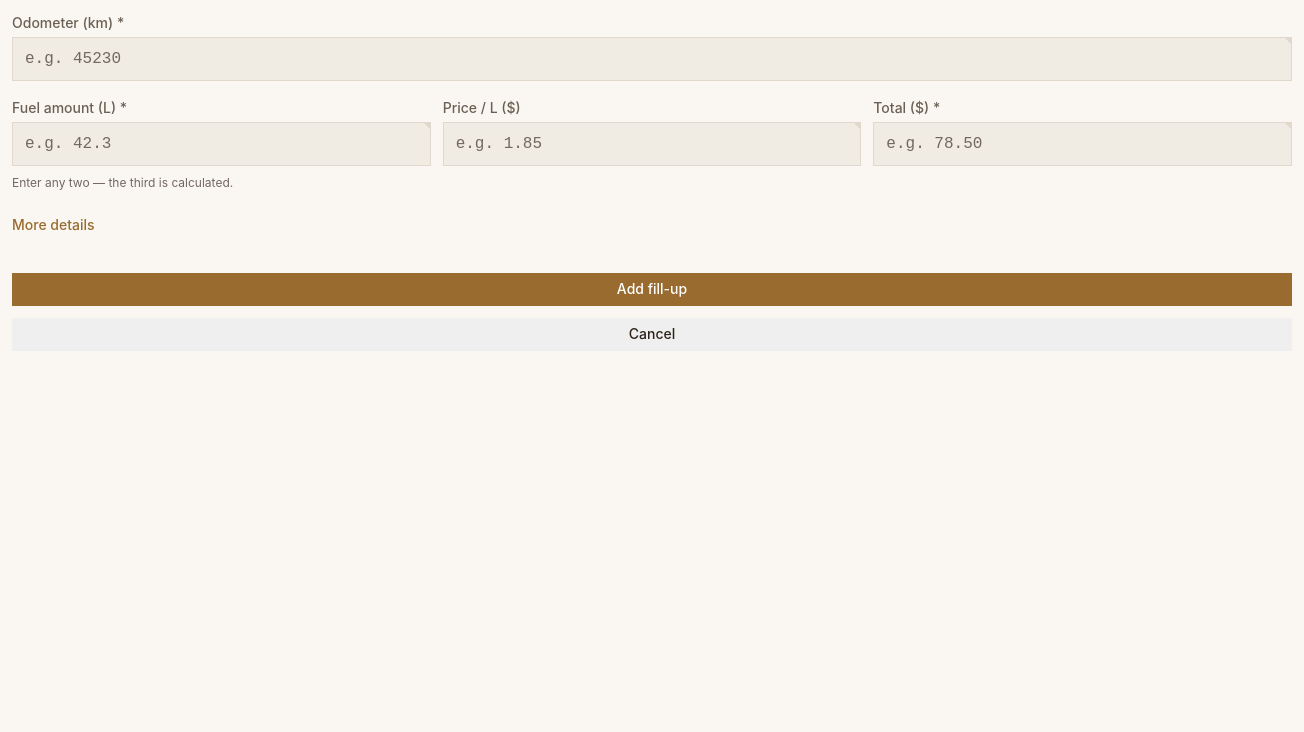
QuickFillForm › keeps optional details collapsed until requested
The width and height of the screenshot is (1304, 732).
Expected: the field labelled "Date" is not shown
Expected: the field labelled "Station" is not shown
Click the button "More details": (53, 224) 12,208 -> 95,241
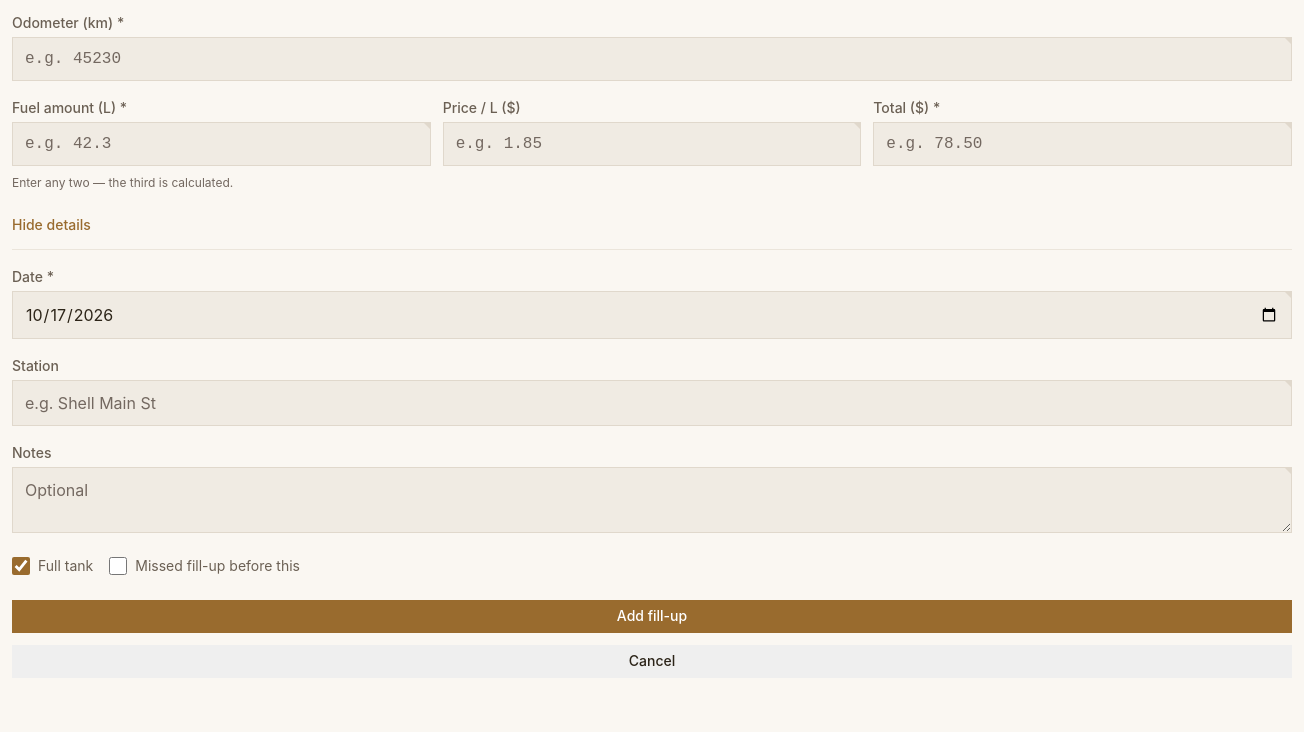
Expected: the date field labelled "Date *" is shown, 12,291 -> 1292,339
Expected: the field labelled "Station" is shown, 12,380 -> 1292,426
Expected: the text box labelled "Notes" is shown, 12,467 -> 1292,533
